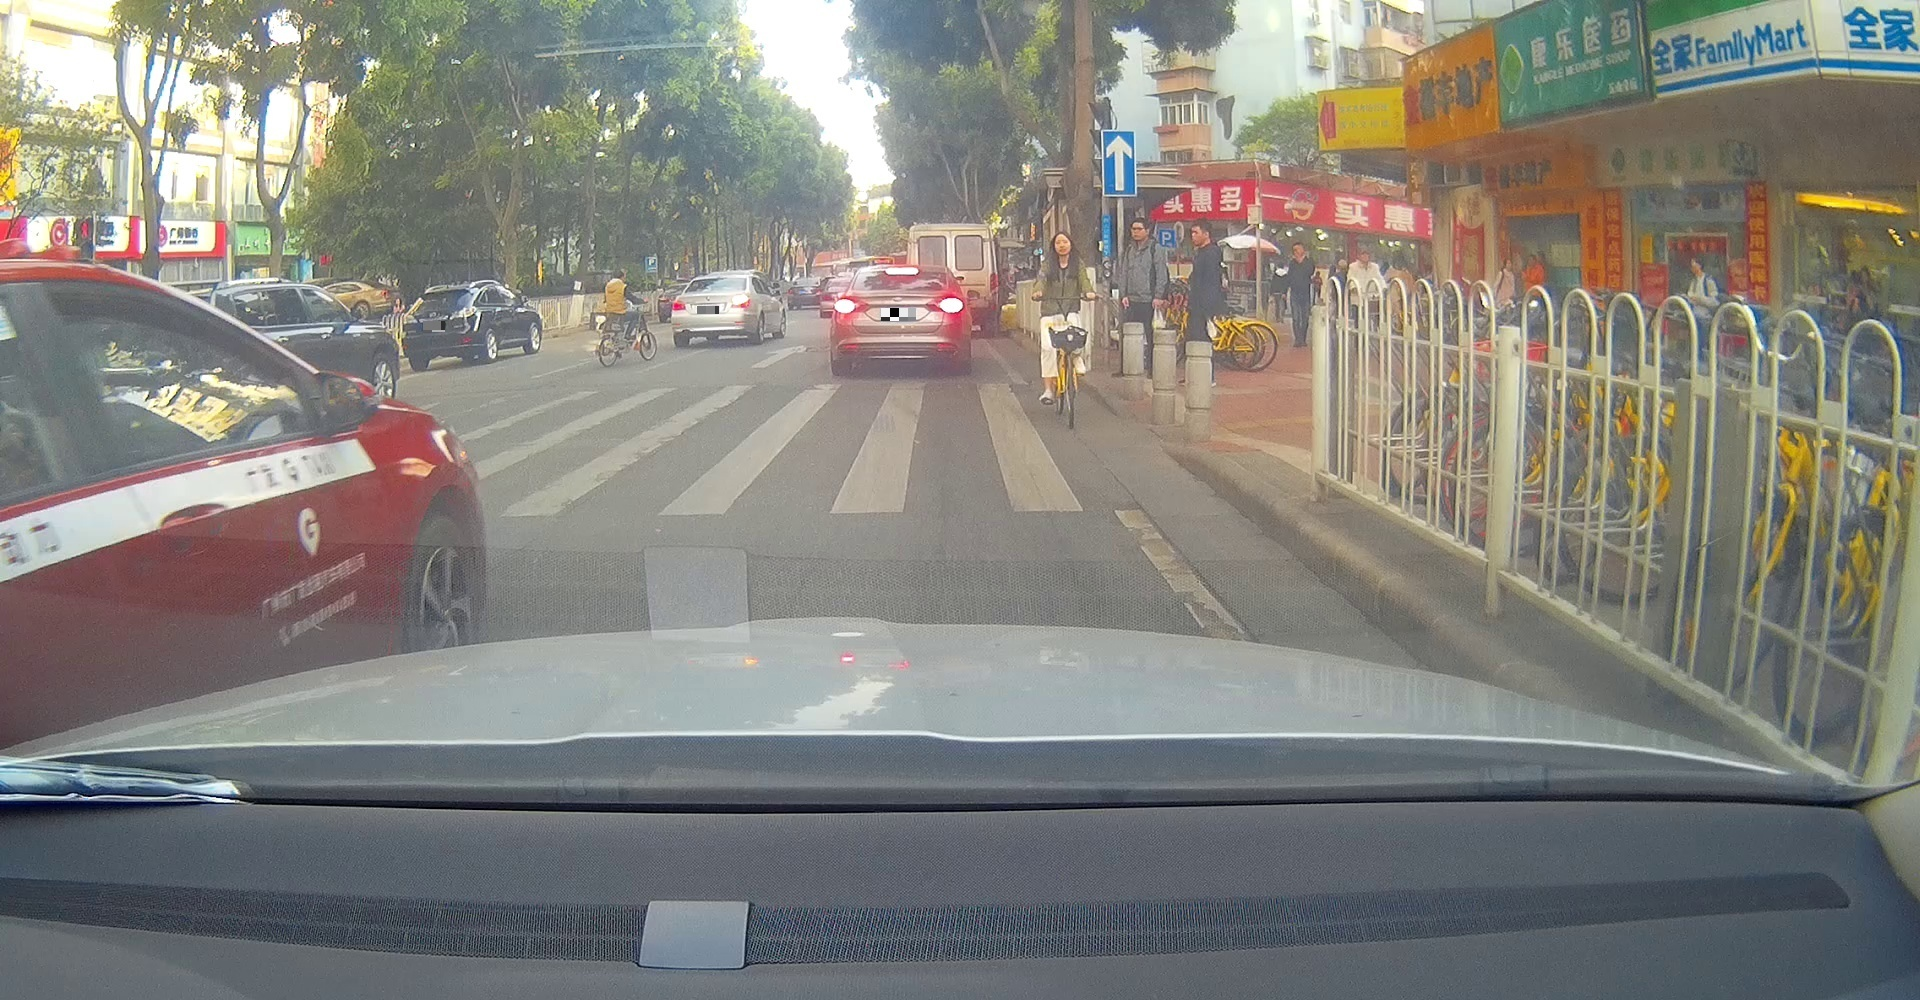L_light: (833, 297, 869, 313), (403, 313, 418, 326), (670, 299, 686, 311)
R_light: (924, 294, 964, 313), (450, 306, 477, 320), (730, 298, 750, 308)
T_light: (884, 266, 919, 275), (437, 291, 451, 293), (712, 278, 723, 280)
day-brake: (829, 264, 971, 376)
day-no: (403, 282, 481, 372), (670, 274, 754, 346)
plate_1: (423, 321, 444, 332)
plate_2: (697, 306, 719, 313)
plate_3: (881, 308, 916, 321)
